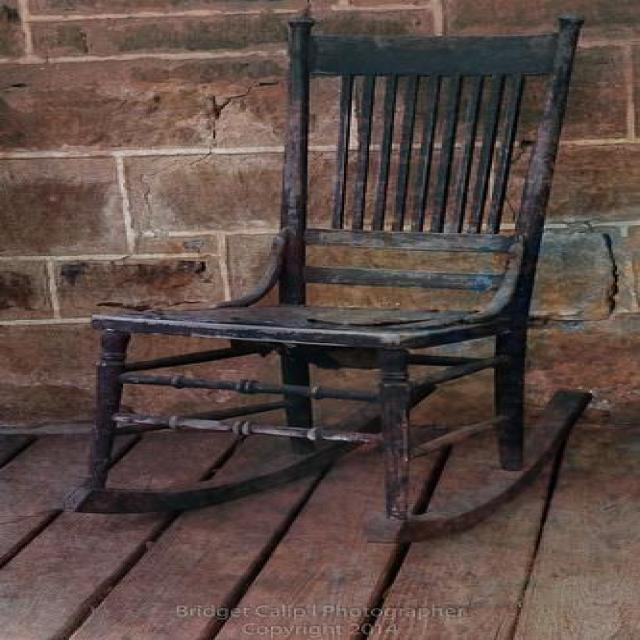chair: (62, 5, 586, 542)
